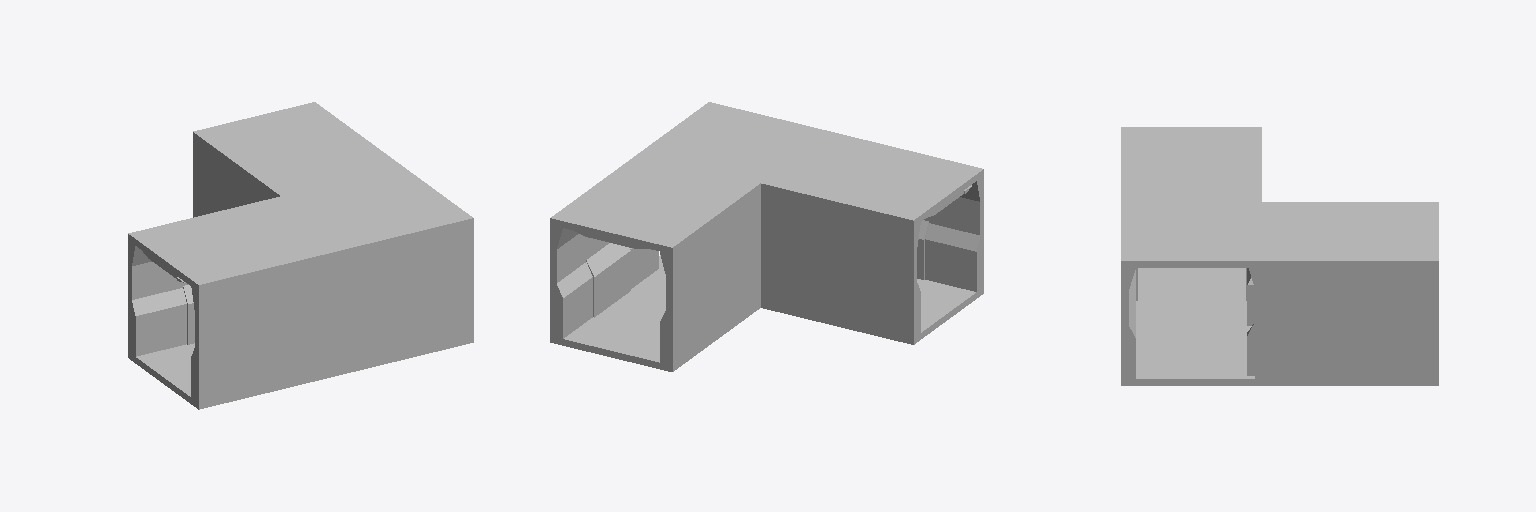
Rendered from turn hallwauy.obj.
3 renders of one model, left to right at view 1: azimuth 30°, elevation 25°; view 2: azimuth 150°, elevation 25°; view 3: azimuth 270°, elevation 25°, orthographic.
Parts seen in each view (by area): view 1: Part27, Part19, Part25, Part13, Part22, Part17, Part3, Part26, Part24; view 2: Part19, Part3, Part13, Part25, Part24, Part22, Part10, Part12, Part23, Part27, Part11, Part20 (+2 smaller); view 3: Part12, Part19, Part25, Part24, Part22, Part27.
Part boxes in pixels (left/top/right/bottom): Part27: left=195, top=225, right=473, bottom=402; Part19: left=193, top=103, right=473, bottom=254; Part25: left=129, top=199, right=350, bottom=291; Part13: left=193, top=130, right=286, bottom=217; Part22: left=128, top=343, right=350, bottom=409; Part17: left=132, top=304, right=186, bottom=356; Part3: left=128, top=195, right=288, bottom=353; Part26: left=132, top=288, right=186, bottom=315; Part24: left=351, top=336, right=473, bottom=371; Part19: left=550, top=102, right=830, bottom=253; Part3: left=757, top=179, right=916, bottom=337; Part13: left=666, top=182, right=760, bottom=365; Part25: left=761, top=132, right=983, bottom=226; Part24: left=550, top=255, right=760, bottom=371; Part22: left=761, top=279, right=983, bottom=344; Part10: left=557, top=248, right=658, bottom=338; Part12: left=550, top=151, right=646, bottom=336; Part23: left=925, top=239, right=979, bottom=291; Part27: left=924, top=174, right=983, bottom=288; Part11: left=593, top=251, right=630, bottom=317; Part20: left=925, top=223, right=979, bottom=251; Part12: left=1255, top=258, right=1438, bottom=378; Part19: left=1121, top=202, right=1438, bottom=267; Part25: left=1121, top=127, right=1261, bottom=201; Part24: left=1121, top=319, right=1438, bottom=385; Part22: left=1136, top=268, right=1246, bottom=318; Part27: left=1121, top=266, right=1128, bottom=378.
Size of the model in its own units: 43 by 18.5 by 42.75.